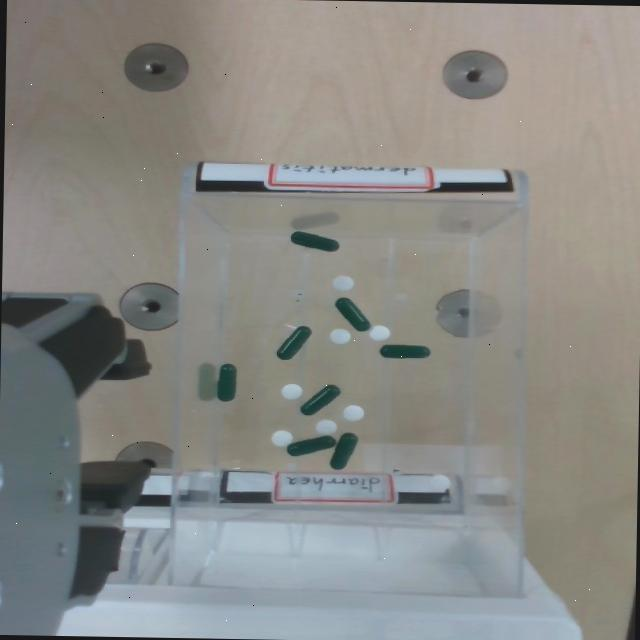ganakan_tab: (340, 403, 365, 422), (330, 274, 355, 292), (366, 324, 390, 341), (279, 382, 301, 400), (328, 328, 350, 344), (271, 430, 292, 446), (315, 419, 337, 434)
monodoxy_cap: (275, 324, 313, 361), (299, 384, 342, 416), (333, 297, 372, 332), (335, 296, 371, 331), (285, 434, 336, 457), (300, 384, 339, 414), (288, 230, 341, 252), (328, 432, 358, 470), (275, 326, 310, 358), (329, 432, 357, 468), (214, 363, 238, 403), (287, 435, 334, 455), (289, 231, 337, 250), (377, 344, 431, 360), (216, 363, 235, 400), (379, 344, 429, 357)
